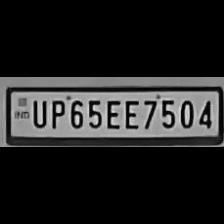0: (176, 96, 194, 128)
4: (194, 96, 214, 128)
5: (84, 97, 104, 129), (157, 97, 177, 129)
6: (66, 97, 84, 129)
7: (140, 97, 156, 129)
E: (122, 97, 140, 129), (104, 97, 120, 128)
P: (47, 97, 65, 129)
U: (28, 96, 48, 128)
